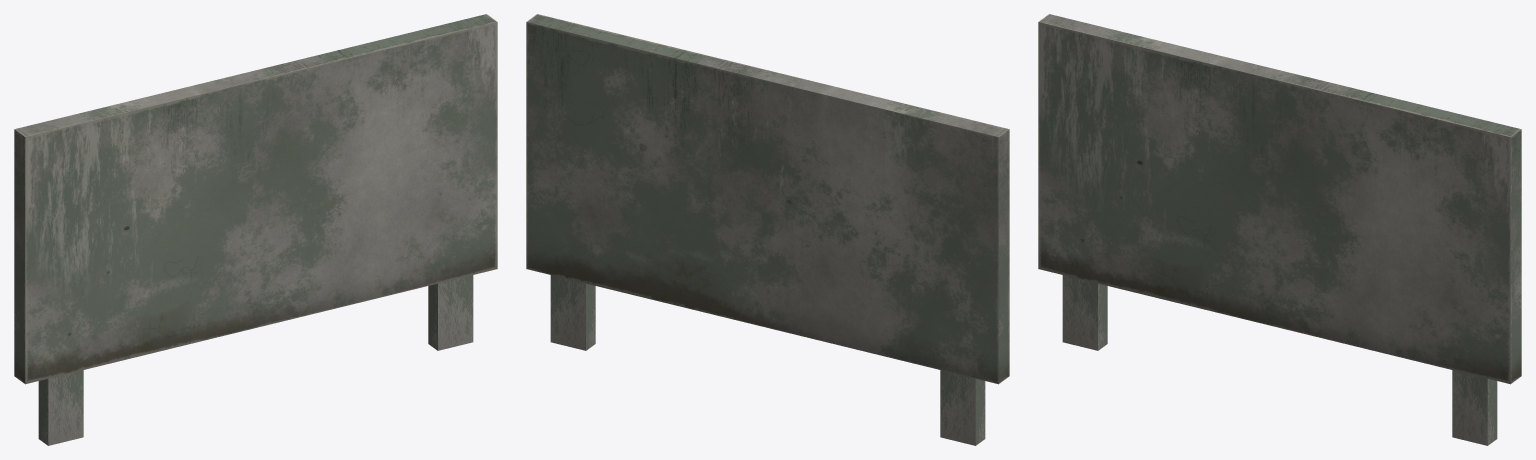
File: fence_po2_D_lod1_web.glb
The picture shows the model from 3 angles, left to right: view 1: azimuth 30°, elevation 25°; view 2: azimuth 150°, elevation 25°; view 3: azimuth 330°, elevation 25°; orthographic projection.
Parts seen in each view (by area): view 1: FencePO2_D_lod1; view 2: FencePO2_D_lod1; view 3: FencePO2_D_lod1.
Boxes of the visible parts, x1=… form: FencePO2_D_lod1: x1=14, y1=14, x2=497, y2=445; FencePO2_D_lod1: x1=526, y1=14, x2=1009, y2=445; FencePO2_D_lod1: x1=1038, y1=14, x2=1521, y2=445.
Bounding box in the file's own units: 4 × 2.55 × 0.1599.
1 material, 1 textured.
